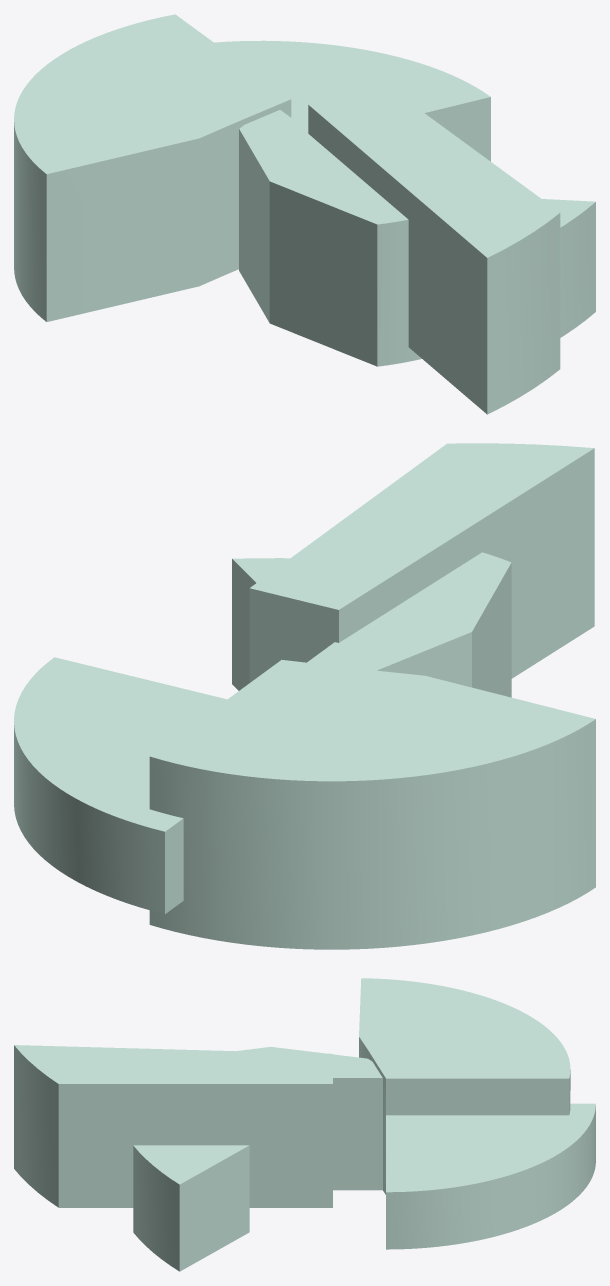
3 renders of one model, top to bottom at view 1: azimuth 30°, elevation 25°; view 2: azimuth 150°, elevation 25°; view 3: azimuth 270°, elevation 25°, orthographic. The views are drawn at different scales.
Parts seen in each view (by area): view 1: Renderer Node; view 2: Renderer Node; view 3: Renderer Node.
Boxes of the visible parts, box(x1,y1,x2,y2) form: Renderer Node: box(14, 14, 595, 414); Renderer Node: box(14, 443, 595, 949); Renderer Node: box(14, 978, 595, 1271).
Size of the model in its own units: 1.3 by 0.4922 by 1.8.
